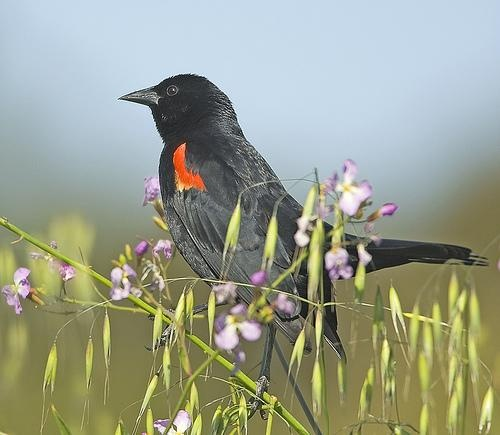bird: (117, 72, 485, 424)
